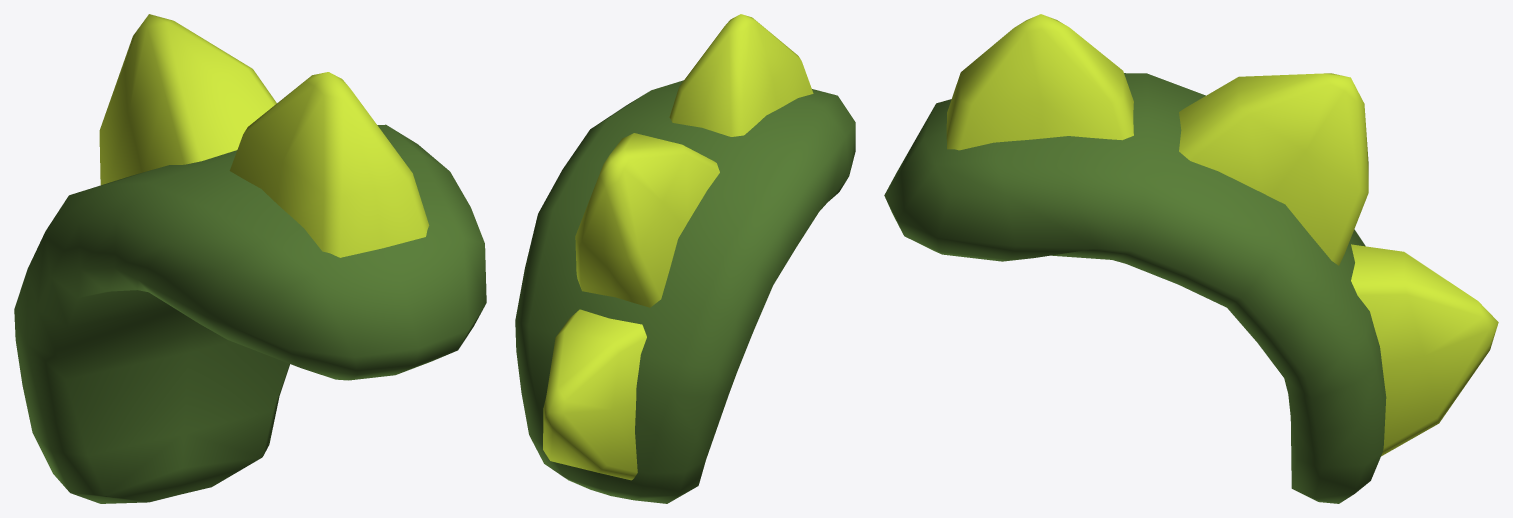
The model's file is Hat_Dino.fbx.
3 renders of one model, left to right at view 1: azimuth 30°, elevation 25°; view 2: azimuth 150°, elevation 25°; view 3: azimuth 270°, elevation 25°, orthographic. The views are drawn at different scales.
Parts seen in each view (by area): view 1: Dino, Dino Spikes; view 2: Dino, Dino Spikes; view 3: Dino, Dino Spikes.
Boxes of the visible parts, x1=… form: Dino: x1=14, y1=124, x2=486, y2=503; Dino Spikes: x1=99, y1=14, x2=429, y2=257; Dino: x1=515, y1=80, x2=855, y2=503; Dino Spikes: x1=543, y1=14, x2=813, y2=480; Dino: x1=884, y1=73, x2=1386, y2=503; Dino Spikes: x1=946, y1=14, x2=1498, y2=456.
Bounding box in the file's own units: 59.77 × 94.27 × 113.
